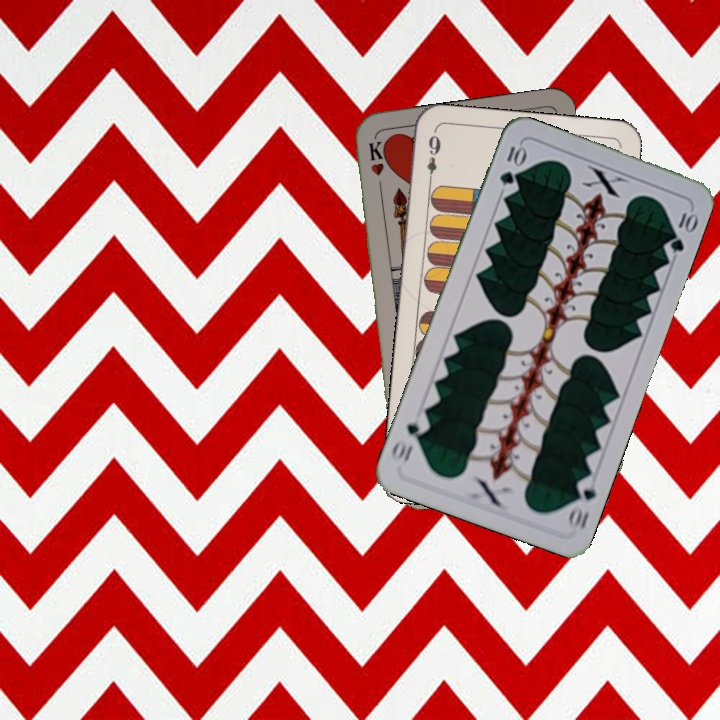E9: (423, 131, 443, 187)
G10: (563, 473, 599, 533), (495, 142, 528, 188)
HK: (364, 136, 387, 196)
